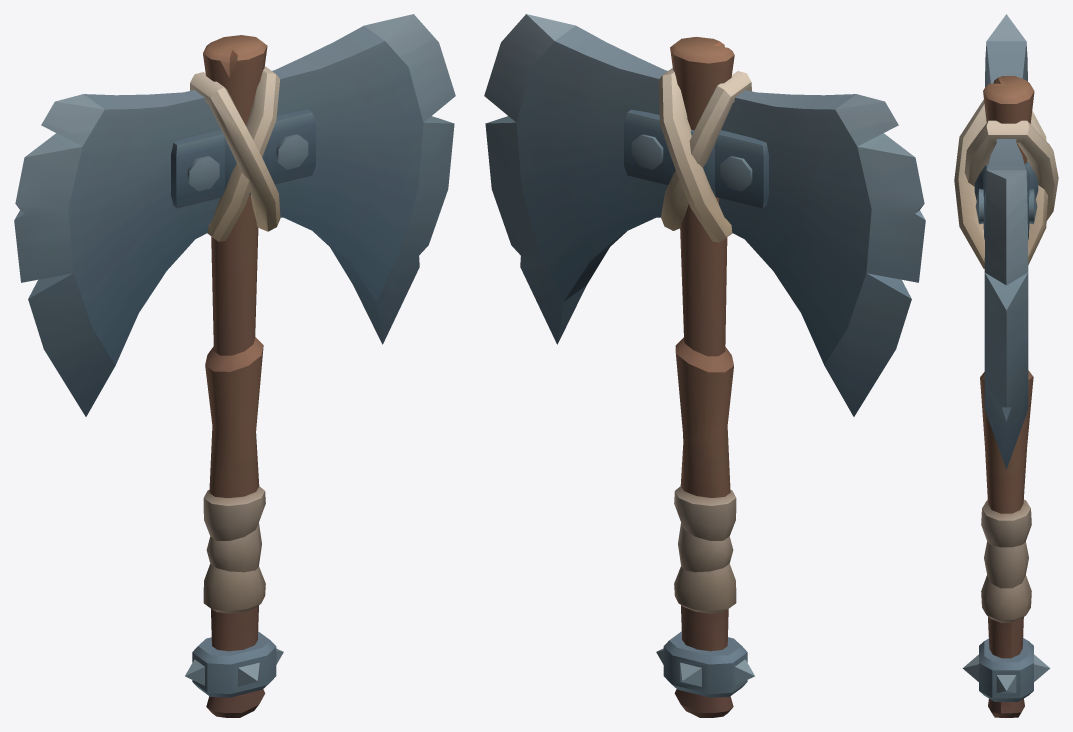
The model's file is axe_b.989ab897.glb.
3 renders of one model, left to right at view 1: azimuth 30°, elevation 25°; view 2: azimuth 150°, elevation 25°; view 3: azimuth 270°, elevation 25°, orthographic. The views are drawn at different scales.
Parts seen in each view (by area): view 1: axe_B; view 2: axe_B; view 3: axe_B.
Part boxes in pixels (x1,y1,x2,y2): axe_B: (14,14,455,717); axe_B: (484,14,925,717); axe_B: (954,14,1058,717).
Bounding box in the file's own units: 1.15 × 1.66 × 0.2504.
1 material, 1 textured.
